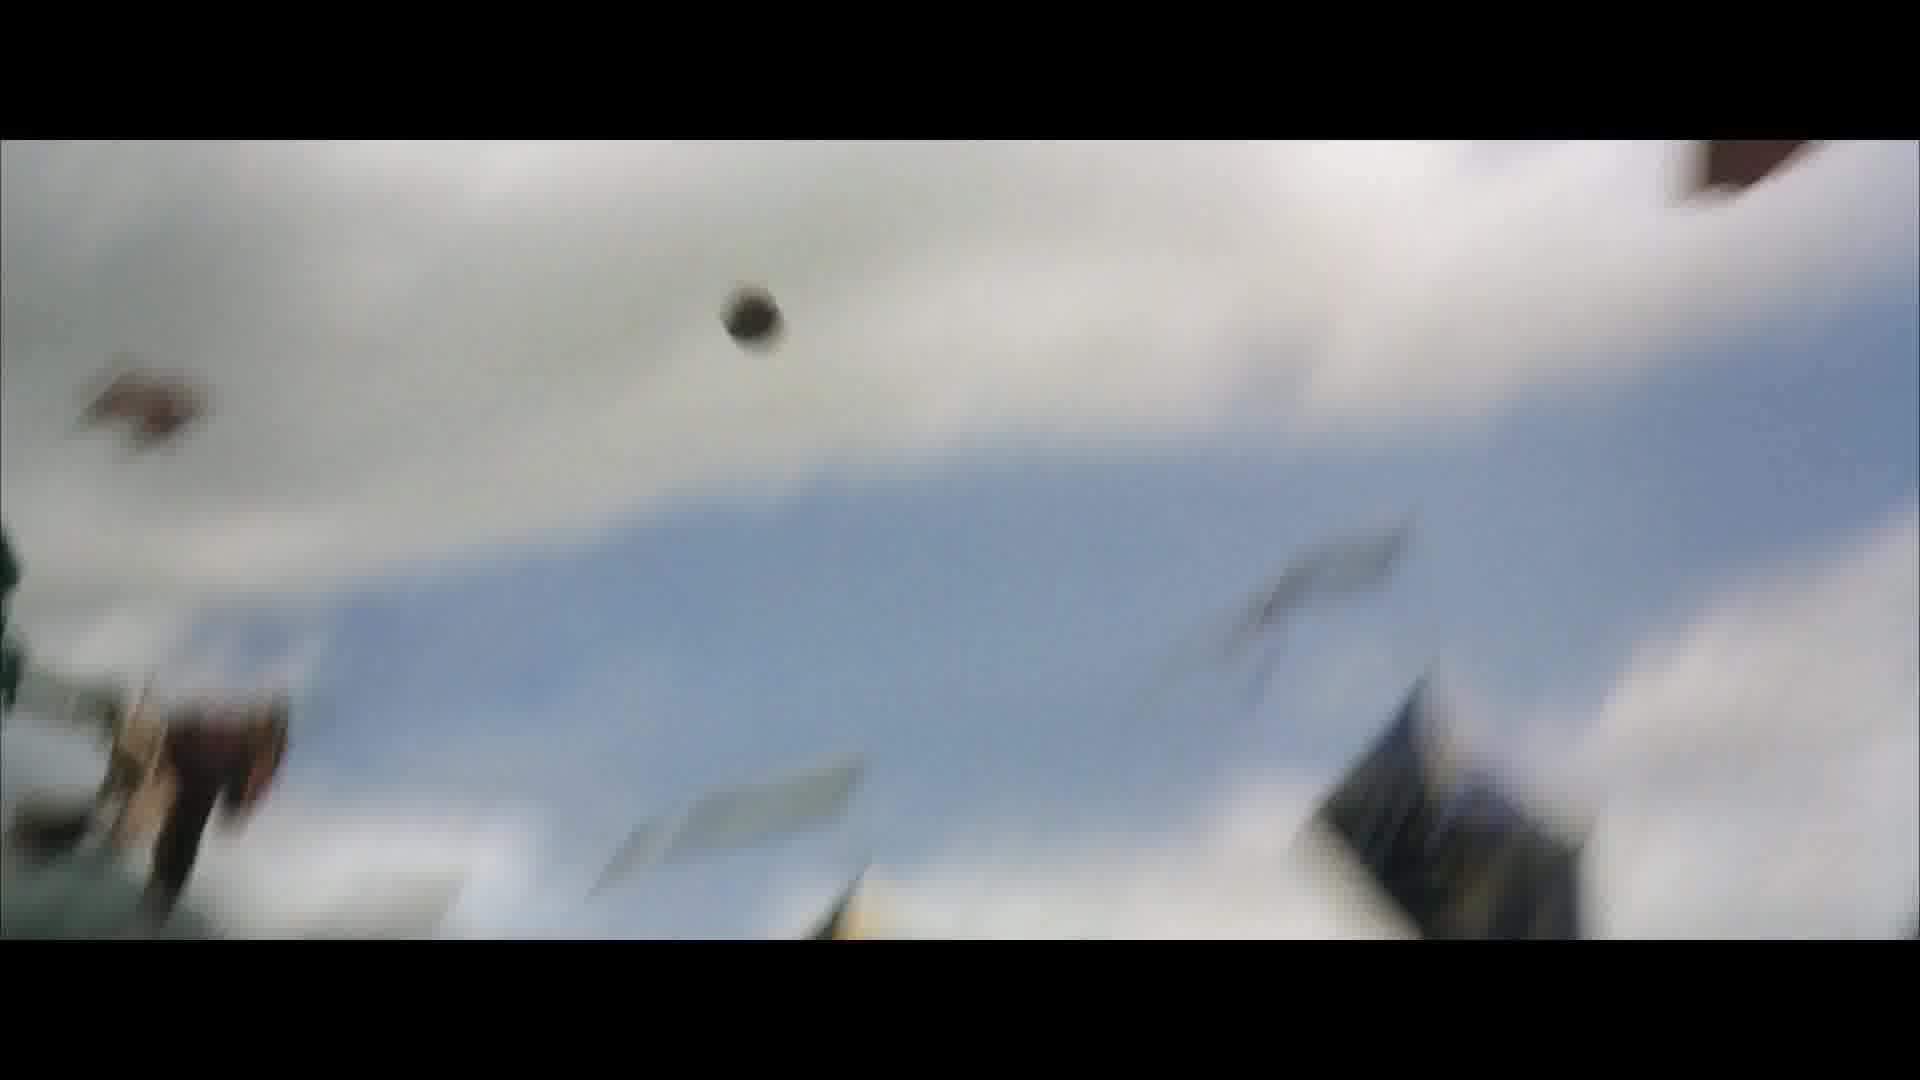snitch: (717, 284, 785, 351)
